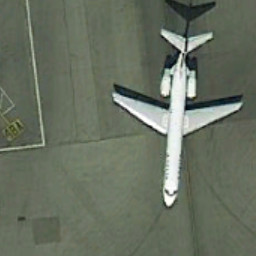Airplane: (96, 20, 252, 218)
